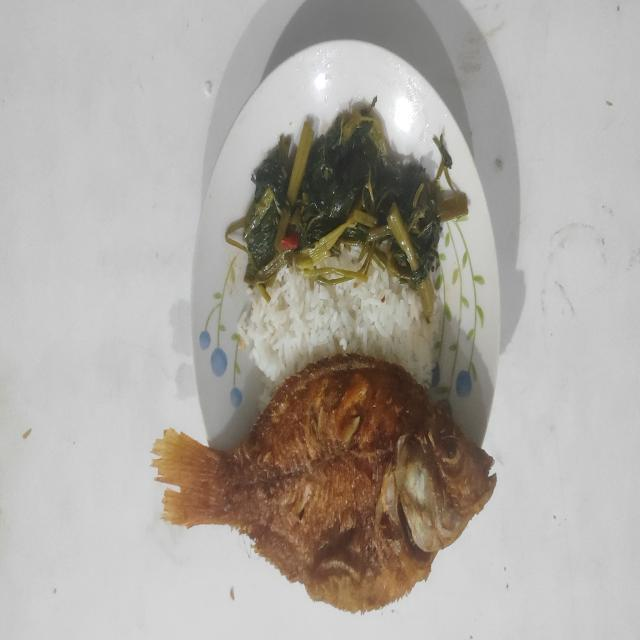ikan_mujair: (152, 354, 496, 612)
nasi_putih: (236, 264, 444, 410)
tumis_kangkung: (226, 98, 468, 322)
